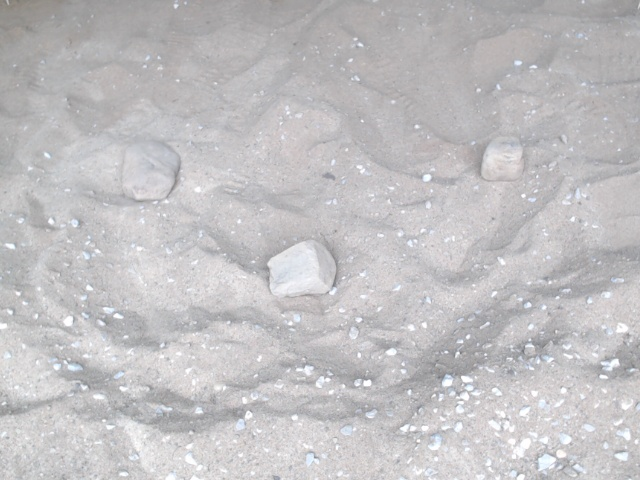rock: (264, 234, 341, 302), (118, 137, 183, 206), (475, 134, 528, 186)
